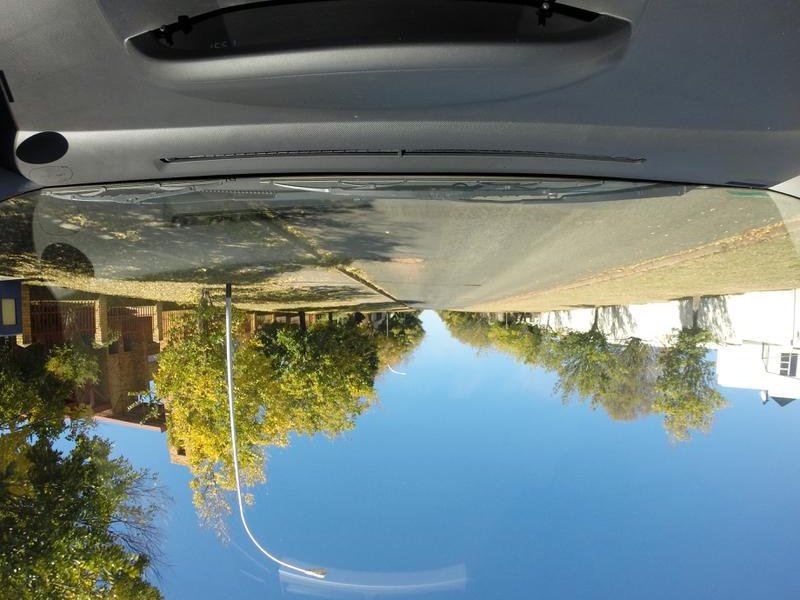pothole: (382, 250, 431, 270)
